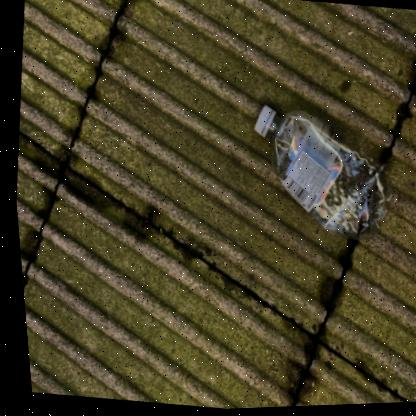Plastic: (253, 106, 388, 241)
